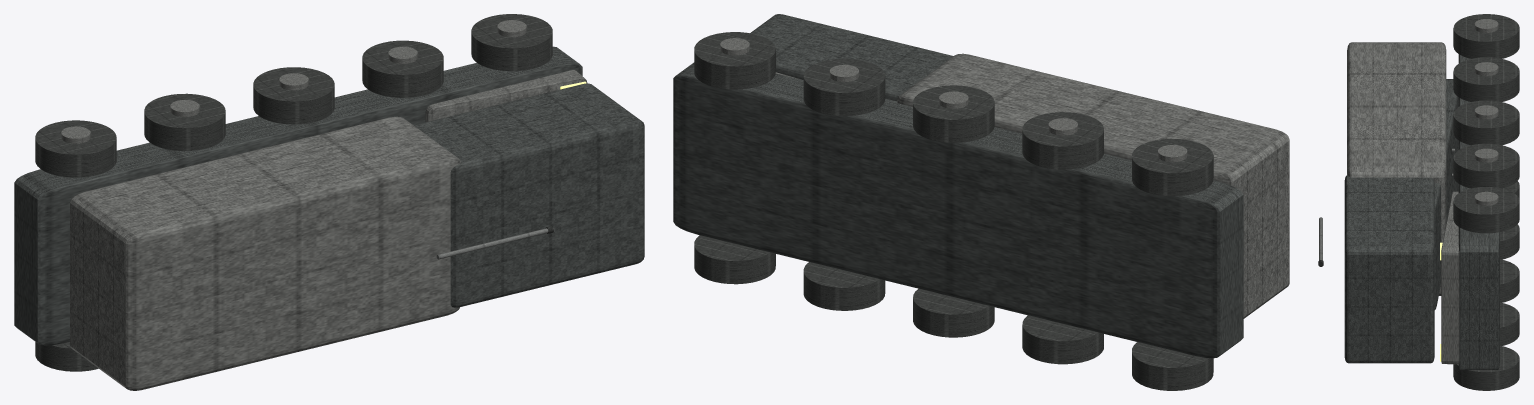
The model's file is c-u20-heavy-ground-transport-lod0.glb.
3 renders of one model, left to right at view 1: azimuth 30°, elevation 25°; view 2: azimuth 150°, elevation 25°; view 3: azimuth 270°, elevation 25°, orthographic. The views are drawn at different scales.
Visible parts, largest first — view 1: transport_body, transport_cabin, chassis_lower, chassis_wheel_1_2, chassis_wheel_1_0, chassis_wheel_1_3, chassis_wheel_1_4, chassis_wheel_1_1, chassis_nose, chassis_wheel_-1_0, transport_rcws_barrel_0; view 2: chassis_lower, transport_body, transport_cabin, chassis_wheel_1_3, chassis_wheel_1_4, chassis_wheel_1_2, chassis_wheel_1_1, chassis_wheel_1_0, chassis_wheel_-1_3, chassis_wheel_-1_0, chassis_wheel_-1_1, chassis_wheel_-1_2 (+1 smaller); view 3: transport_cabin, transport_body, chassis_lower, chassis_nose, chassis_wheel_1_4, chassis_wheel_1_1, chassis_wheel_1_2, chassis_wheel_1_3, chassis_wheel_1_0, upper_hull, chassis_wheel_-1_4, chassis_wheel_-1_3 (+7 smaller).
Boxes of the visible parts, bbox=[...] form: transport_body: bbox=[70, 116, 460, 390]; transport_cabin: bbox=[414, 83, 644, 307]; chassis_lower: bbox=[14, 46, 582, 345]; chassis_wheel_1_2: bbox=[253, 67, 334, 124]; chassis_wheel_1_0: bbox=[35, 120, 116, 177]; chassis_wheel_1_3: bbox=[362, 40, 443, 97]; chassis_wheel_1_4: bbox=[471, 14, 552, 71]; chassis_wheel_1_1: bbox=[144, 93, 225, 150]; chassis_nose: bbox=[425, 70, 587, 122]; chassis_wheel_-1_0: bbox=[35, 342, 98, 371]; transport_rcws_barrel_0: bbox=[436, 228, 548, 259]; chassis_lower: bbox=[673, 62, 1243, 358]; transport_body: bbox=[897, 53, 1289, 318]; transport_cabin: bbox=[750, 14, 953, 101]; chassis_wheel_1_3: bbox=[803, 58, 885, 116]; chassis_wheel_1_4: bbox=[694, 32, 775, 89]; chassis_wheel_1_2: bbox=[913, 85, 994, 142]; chassis_wheel_1_1: bbox=[1022, 112, 1103, 169]; chassis_wheel_1_0: bbox=[1132, 138, 1213, 196]; chassis_wheel_-1_3: bbox=[803, 262, 885, 310]; chassis_wheel_-1_0: bbox=[1132, 342, 1213, 390]; chassis_wheel_-1_1: bbox=[1022, 315, 1103, 364]; chassis_wheel_-1_2: bbox=[913, 288, 994, 337]; transport_cabin: bbox=[1344, 175, 1434, 363]; transport_body: bbox=[1347, 42, 1446, 295]; chassis_lower: bbox=[1458, 54, 1499, 369]; chassis_nose: bbox=[1441, 191, 1459, 364]; chassis_wheel_1_4: bbox=[1453, 187, 1519, 233]; chassis_wheel_1_1: bbox=[1453, 57, 1519, 101]; chassis_wheel_1_2: bbox=[1453, 100, 1519, 145]; chassis_wheel_1_3: bbox=[1453, 143, 1519, 188]; chassis_wheel_1_0: bbox=[1453, 14, 1519, 58]; upper_hull: bbox=[1434, 79, 1458, 309]; chassis_wheel_-1_4: bbox=[1453, 345, 1519, 390]; chassis_wheel_-1_3: bbox=[1500, 302, 1519, 345].
Size of what is drawn, in the model's own units: 10.37 by 4.13 by 4.09.
Materials: 7 (7 with a texture image).
